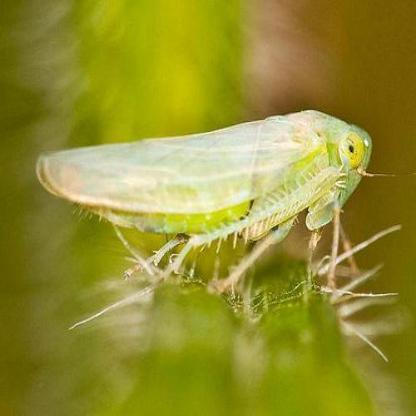green-leafhopper: (44, 110, 368, 272)
